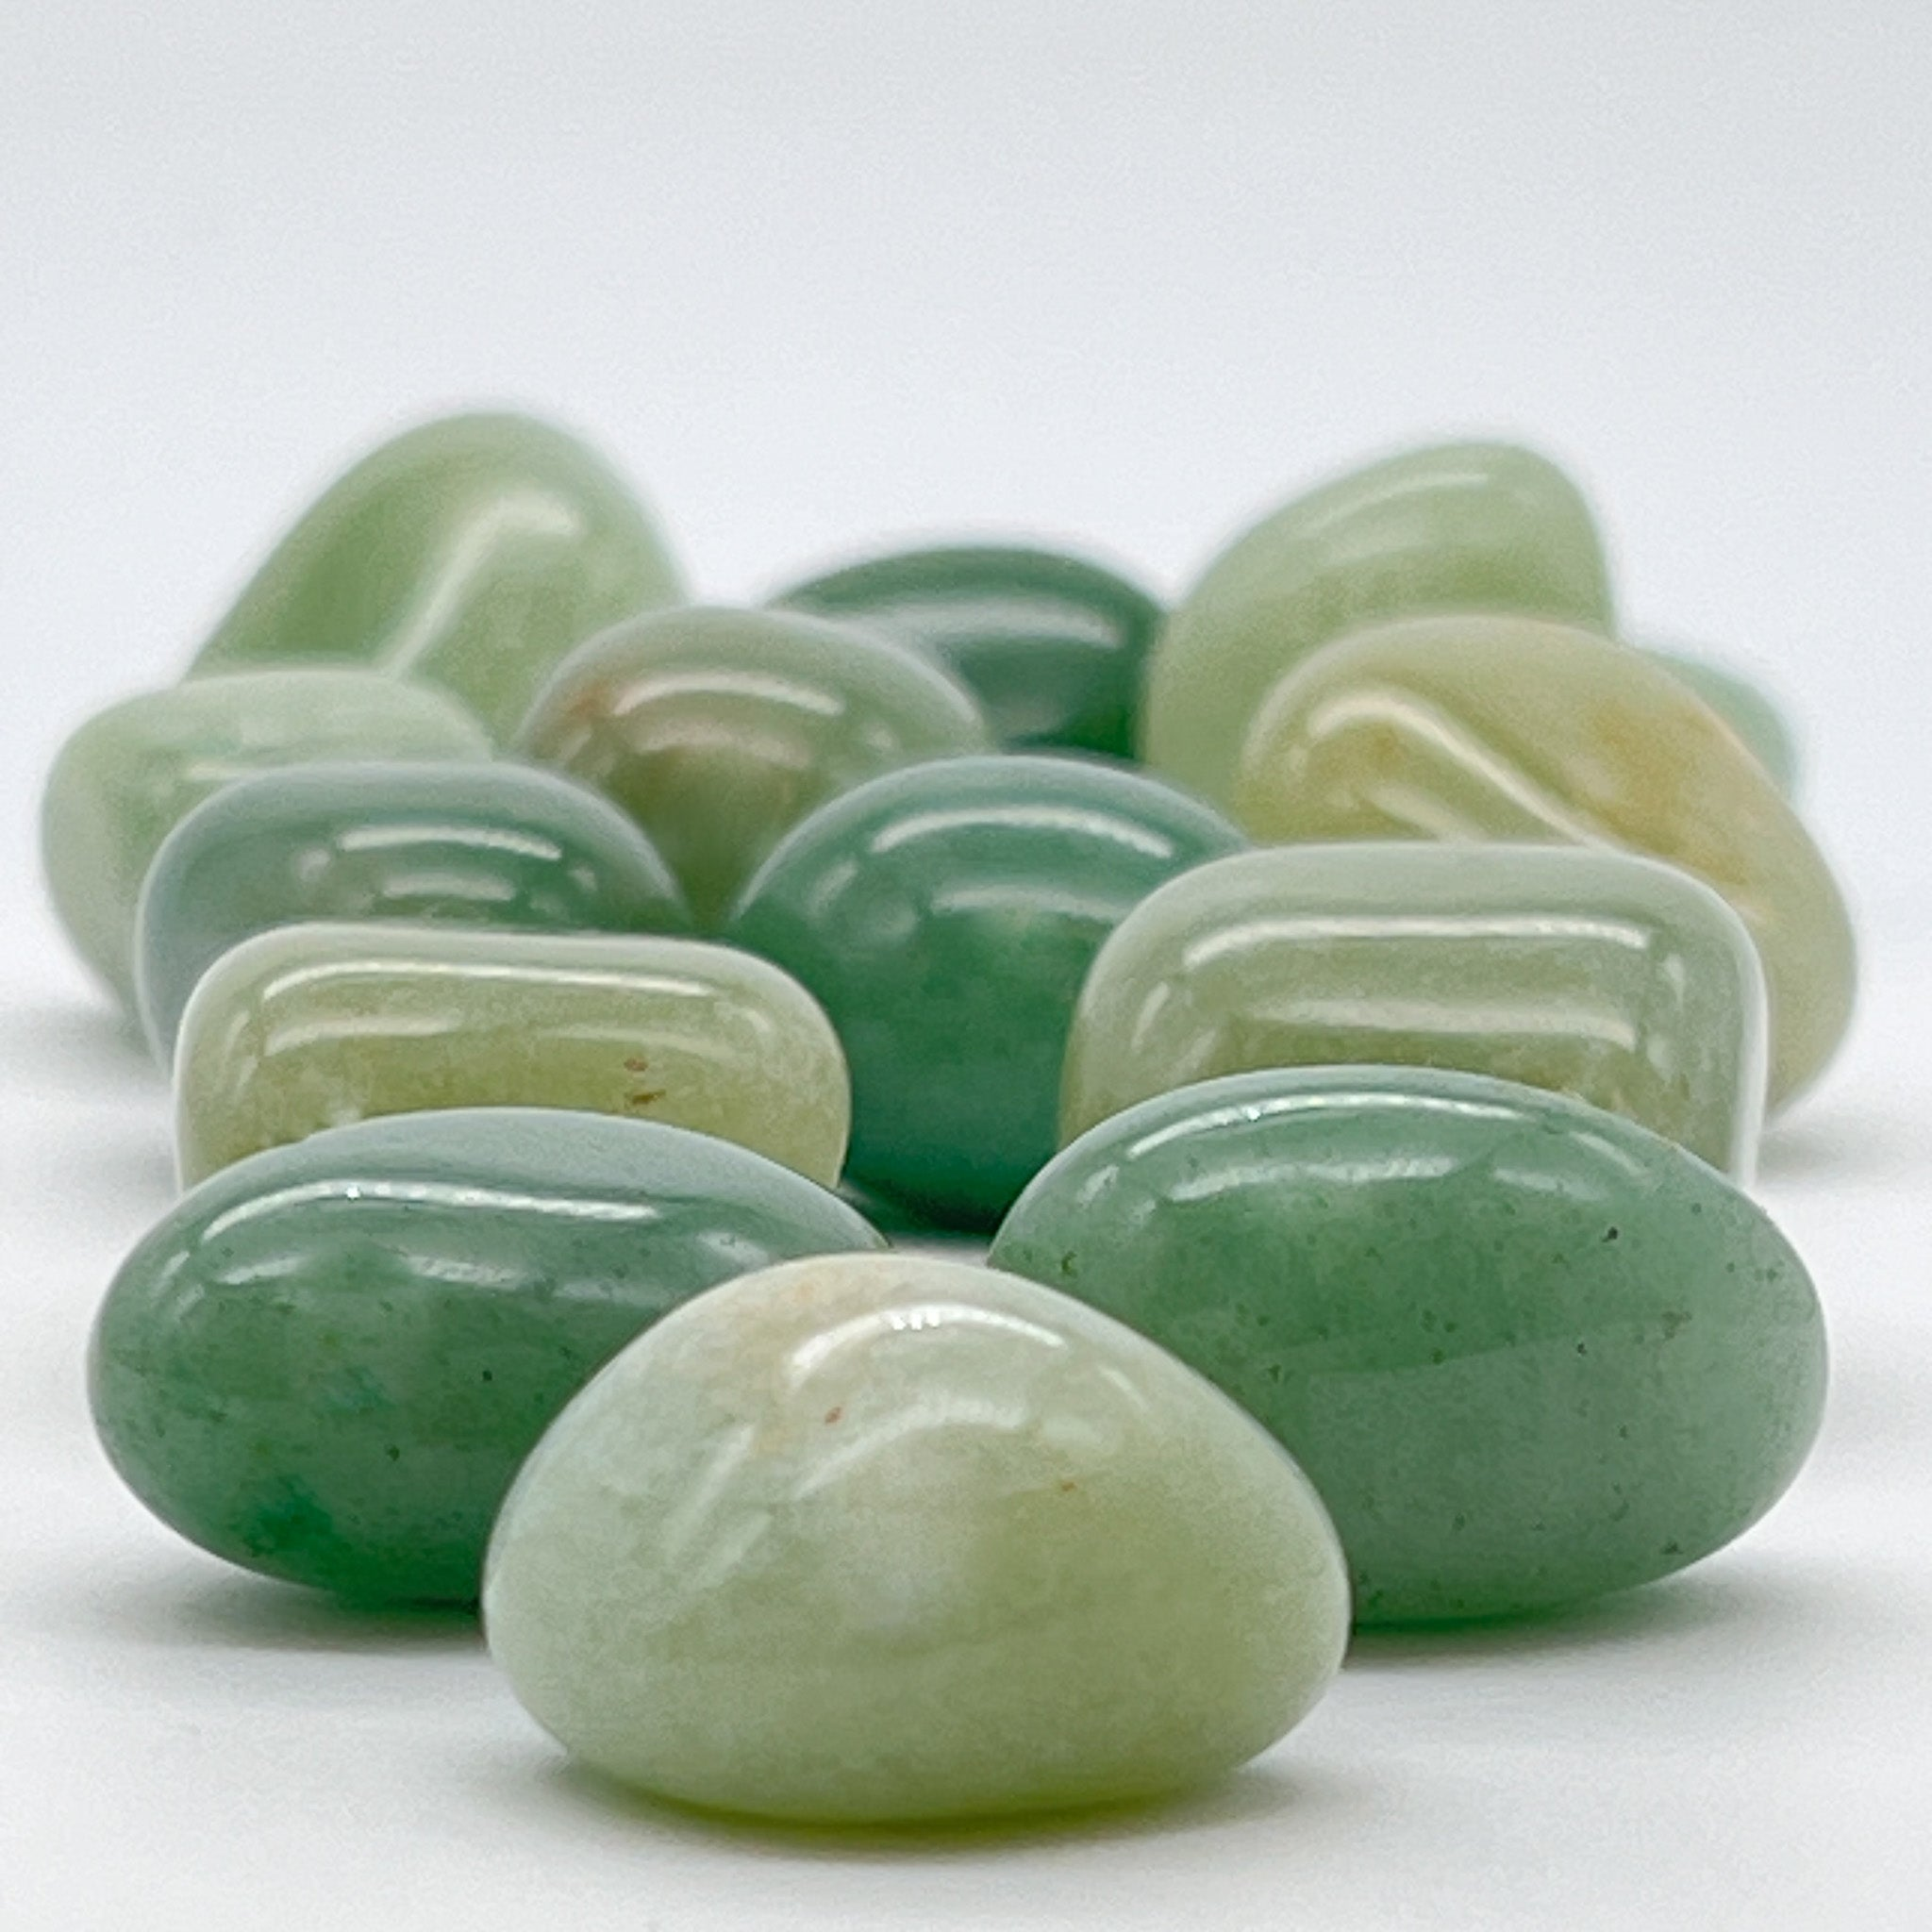Aventurine: (973, 1060, 1821, 1649), (494, 1247, 1361, 1817), (41, 1127, 908, 1649)
